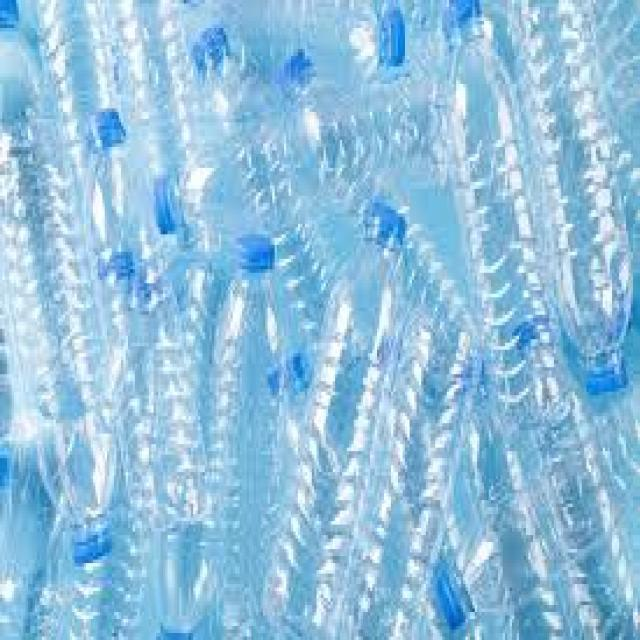Plastic: (259, 205, 412, 632), (0, 159, 126, 563), (510, 0, 635, 393), (448, 14, 565, 428), (194, 233, 287, 610)
